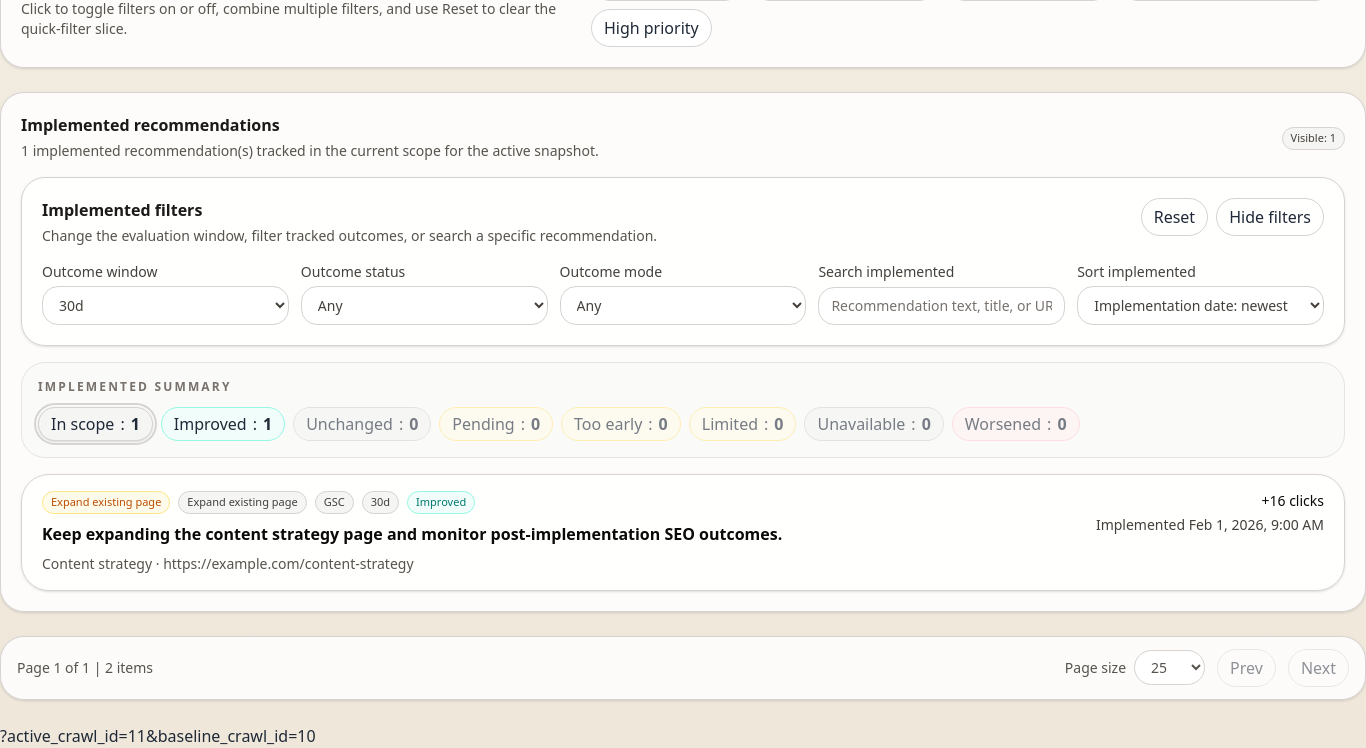
Test case: SiteContentRecommendationsPage › renders implemented recommendations as collapsed rows with expandable details
(page scrolled)
Expected: the heading "Implemented recommendations" is shown, [21,114,280,136]
Expected: the text "+16 clicks" is shown, [1262,491,1324,510]
Click the text "Keep expanding the content strategy page and monitor post-implementation SEO outcomes." at (412, 534), box [42,522,782,546]
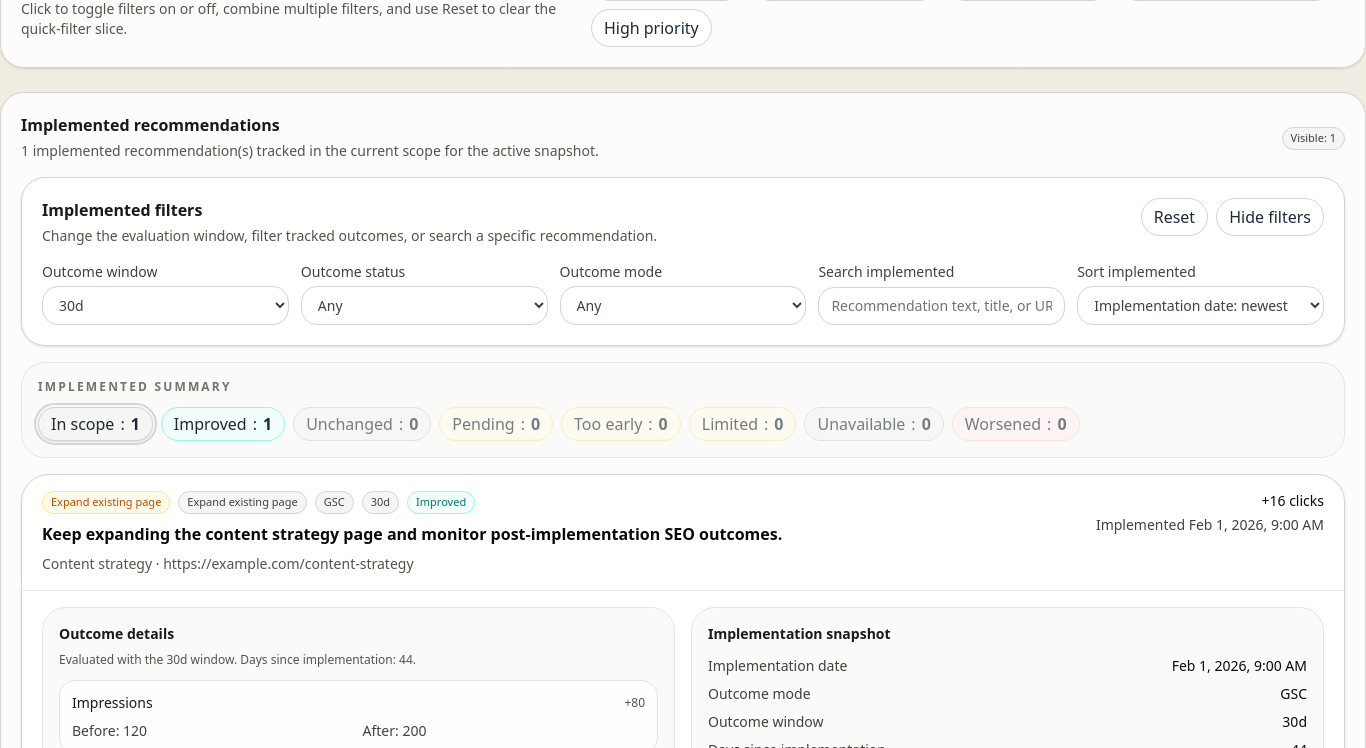
Now the heading "Outcome details" is shown, box [59,624,174,642]
Now the text "Before: 120" is shown, box [72,720,147,740]
Now the text "After: 200" is shown, box [362,720,426,740]
